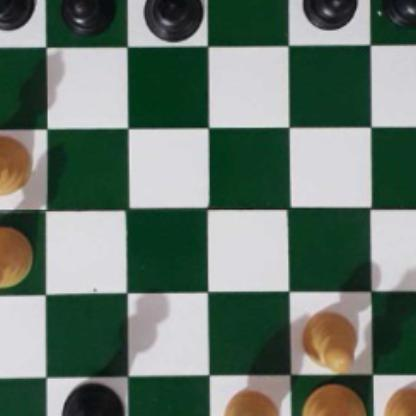black-bishop: (141, 0, 205, 42)
black-pawn: (60, 0, 119, 39), (302, 0, 356, 29), (0, 0, 32, 31), (384, 0, 416, 25)
black-queen: (60, 379, 124, 416)
white-bishop: (0, 227, 34, 292), (0, 133, 32, 196)
white-king: (302, 382, 375, 416)
white-knight: (218, 387, 293, 416)
white-pawn: (298, 310, 358, 374), (382, 384, 416, 416)
